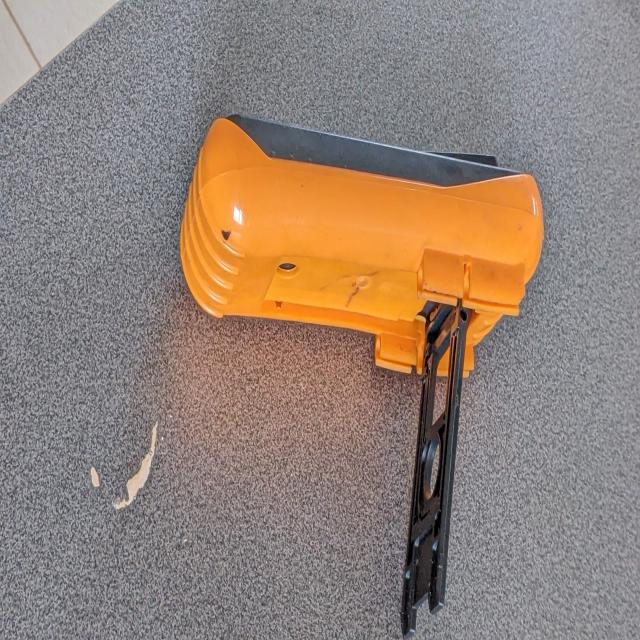Digital Multimeter: (177, 103, 549, 625)
